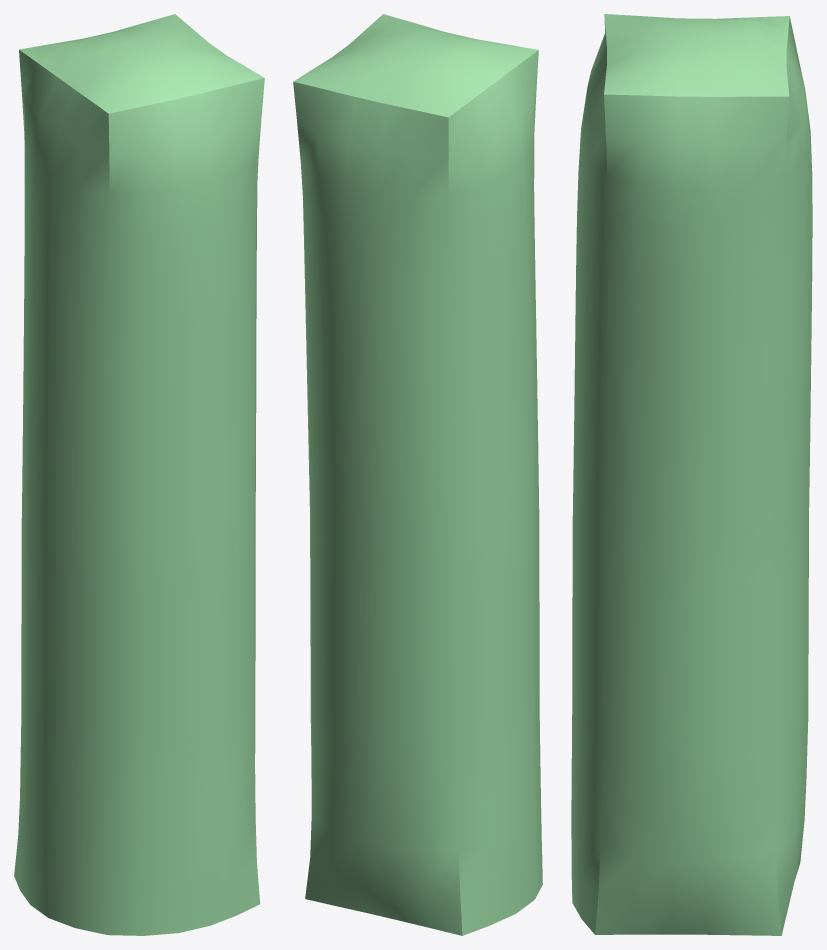
Rendered from SupportVertical.fbx.
3 renders of one model, left to right at view 1: azimuth 30°, elevation 25°; view 2: azimuth 150°, elevation 25°; view 3: azimuth 270°, elevation 25°, orthographic. The views are drawn at different scales.
Parts seen in each view (by area): view 1: SupportVertical; view 2: SupportVertical; view 3: SupportVertical.
Part boxes in pixels (x1,y1,x2,y2): SupportVertical: (14, 14, 264, 935); SupportVertical: (293, 14, 542, 935); SupportVertical: (571, 14, 812, 935).
Bounding box in the file's own units: 130 × 510 × 129.
